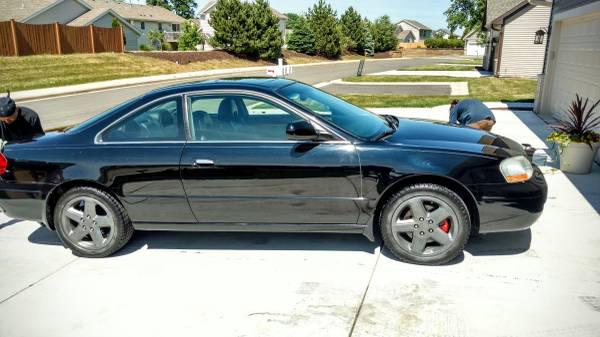acura: (2, 74, 562, 282)
